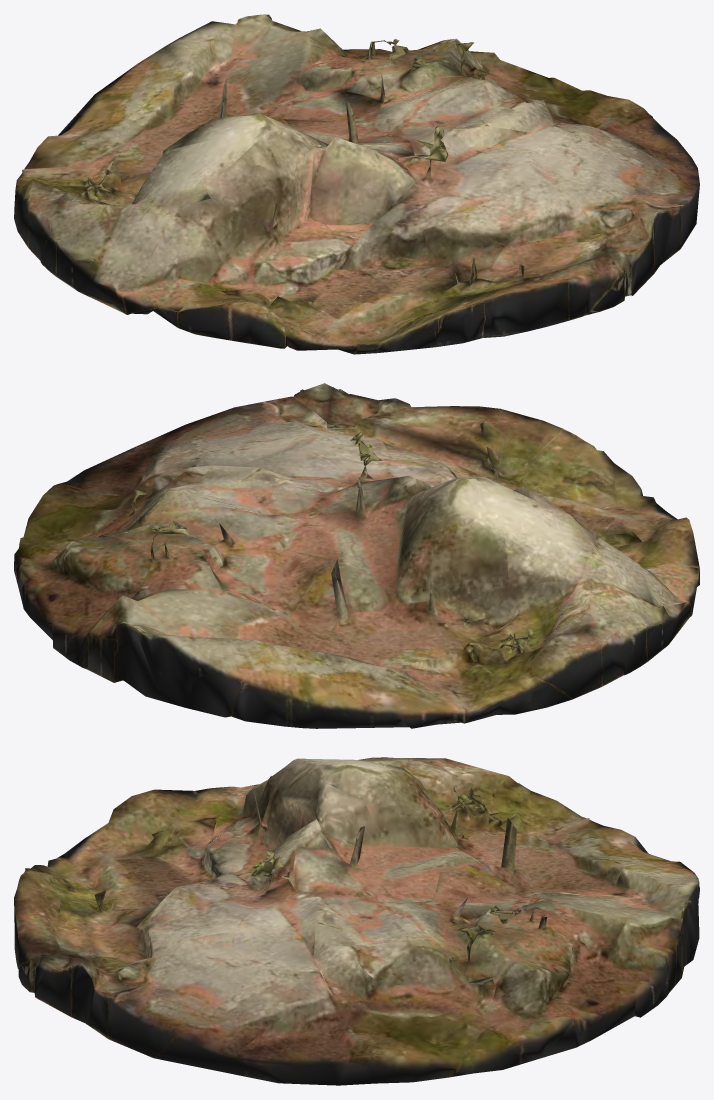
Rendered from rock-outcrop.glb.
3 renders of one model, top to bottom at view 1: azimuth 30°, elevation 25°; view 2: azimuth 150°, elevation 25°; view 3: azimuth 270°, elevation 25°, orthographic. The views are drawn at different scales.
Visible parts, largest first — view 1: Object_2; view 2: Object_2; view 3: Object_2.
Part boxes in pixels (box(x1,y1,x2,y2)): Object_2: box(14, 14, 699, 354); Object_2: box(14, 383, 699, 728); Object_2: box(14, 757, 699, 1085).
Size of the model in its own units: 18.08 by 3.59 by 17.88.
1 material, 1 textured.
